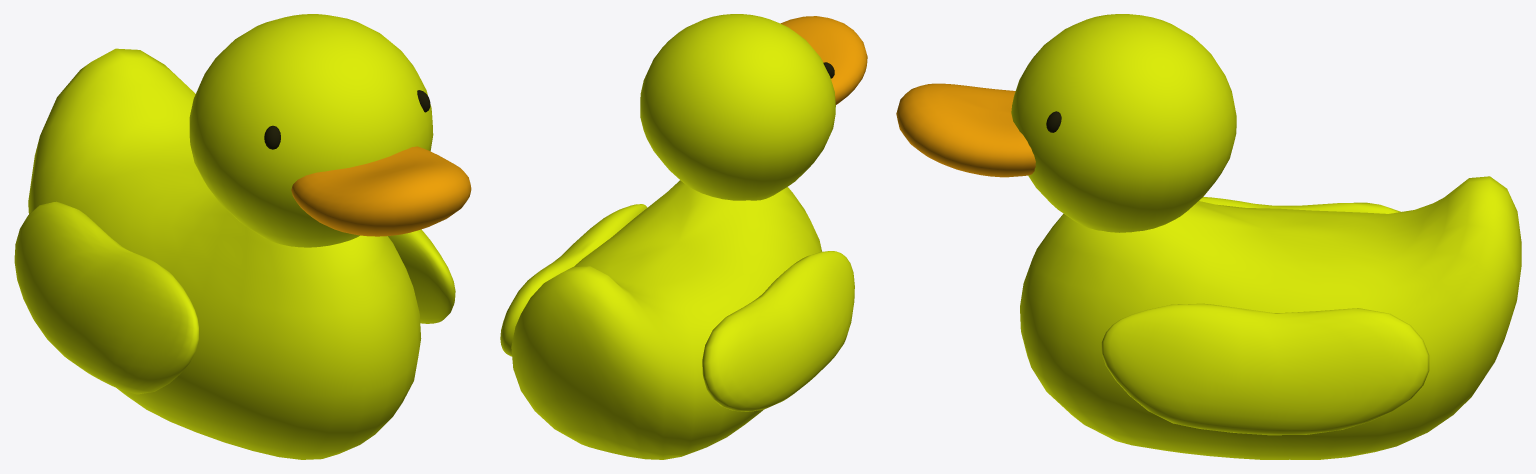
File: ducky.fbx
3 renders of one model, left to right at view 1: azimuth 30°, elevation 25°; view 2: azimuth 150°, elevation 25°; view 3: azimuth 270°, elevation 25°, orthographic. The views are drawn at different scales.
Visible parts, largest first — view 1: Duck.005; view 2: Duck.005; view 3: Duck.005.
Boxes of the visible parts, x1=… form: Duck.005: x1=14, y1=14, x2=471, y2=459; Duck.005: x1=500, y1=14, x2=867, y2=459; Duck.005: x1=896, y1=14, x2=1521, y2=459.
Bounding box in the file's own units: 12.35 × 15.94 × 21.6.
